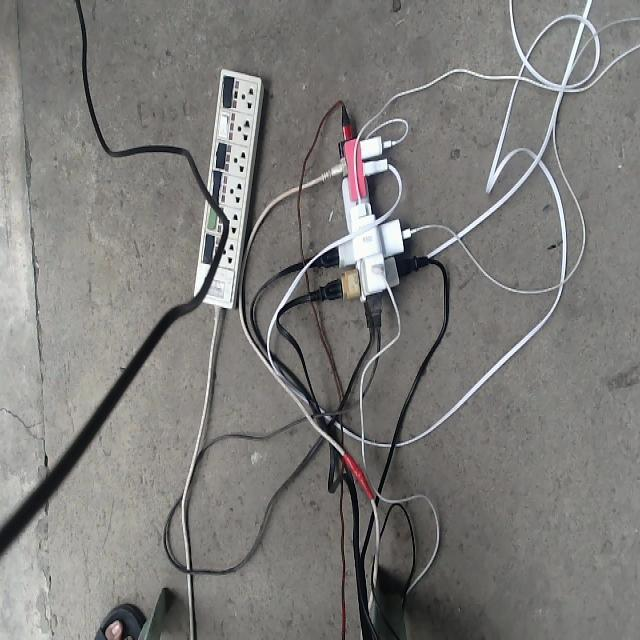-: (304, 117, 415, 332)
